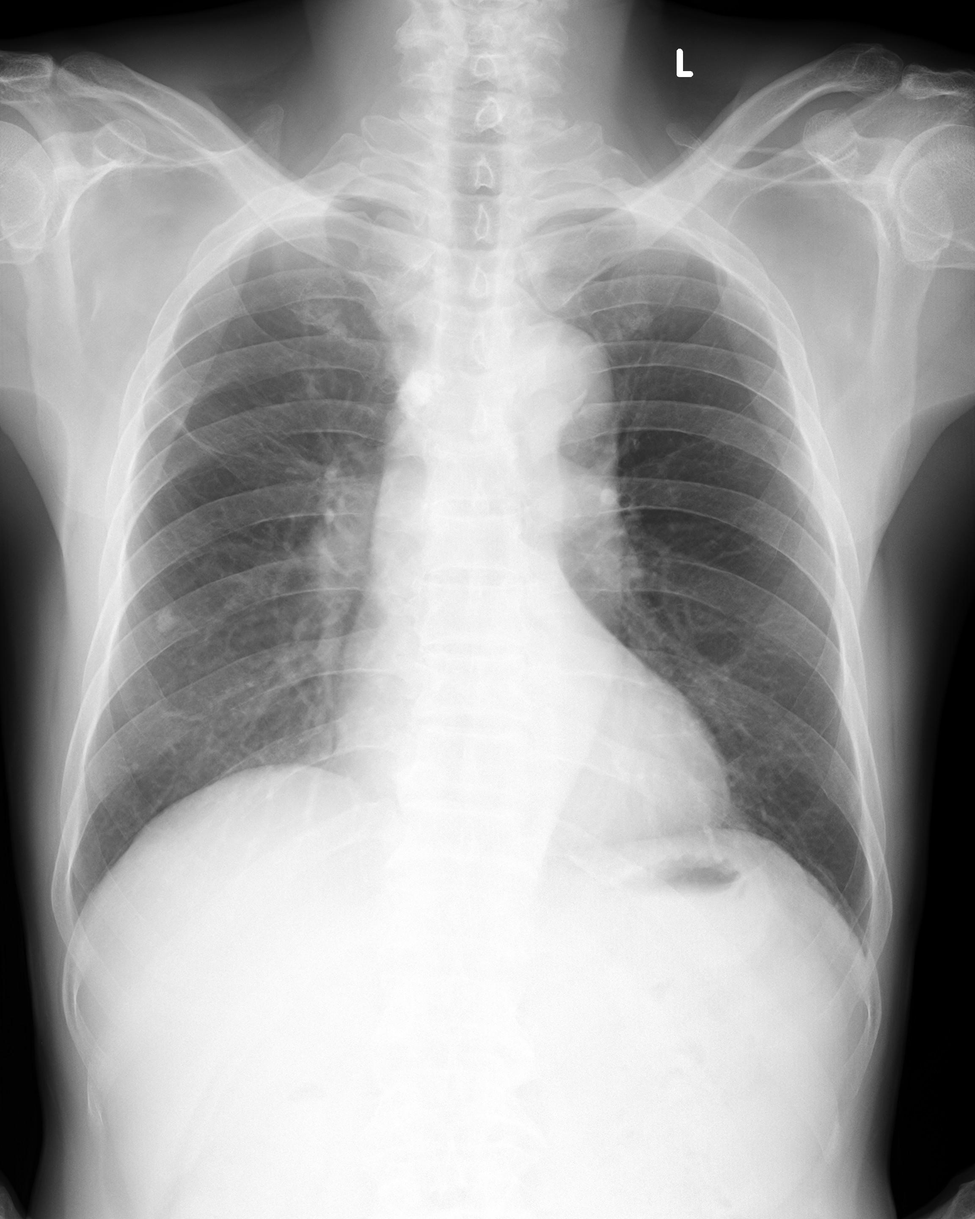Aortic enlargement: (490, 319, 618, 470)
Pulmonary fibrosis: (159, 399, 214, 452)
